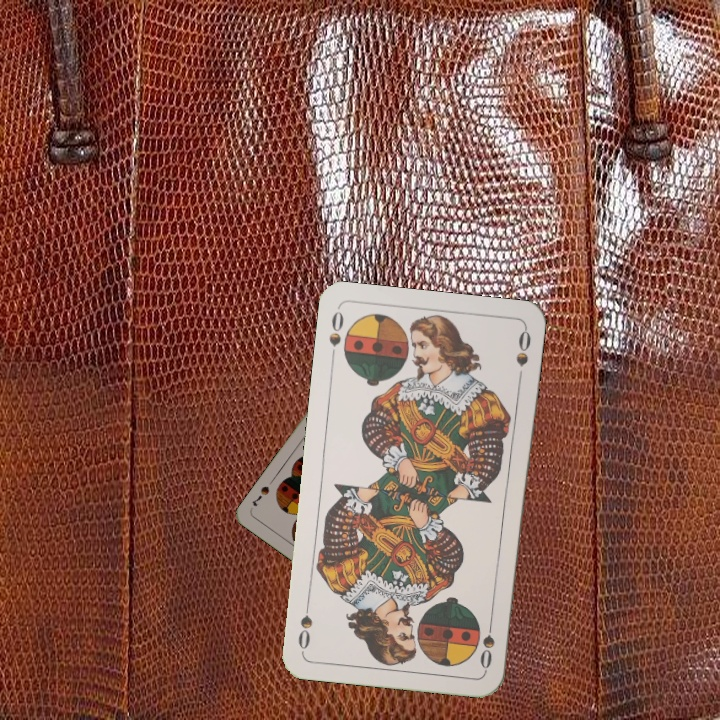SO: (476, 613, 497, 672), (325, 307, 346, 364)
